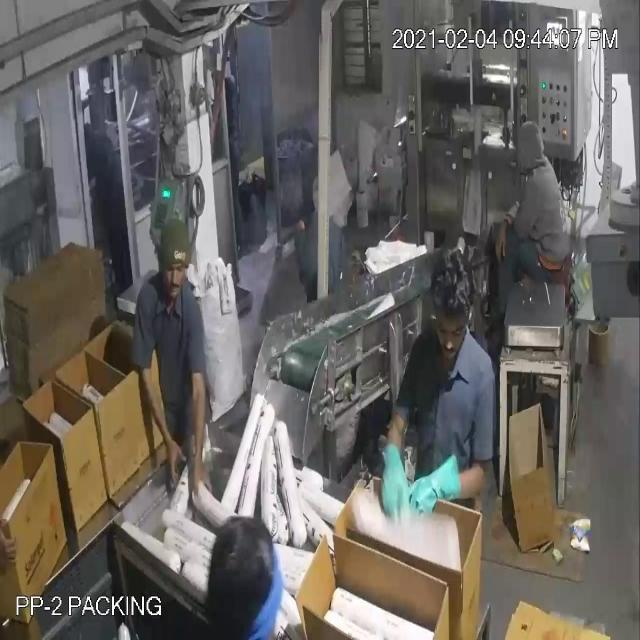No_Gloves: (30, 46, 510, 486)
